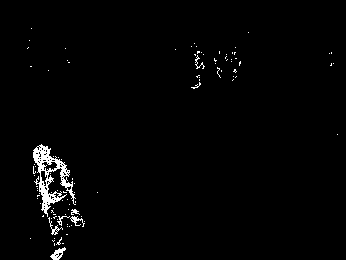person: (30, 144, 85, 260)
